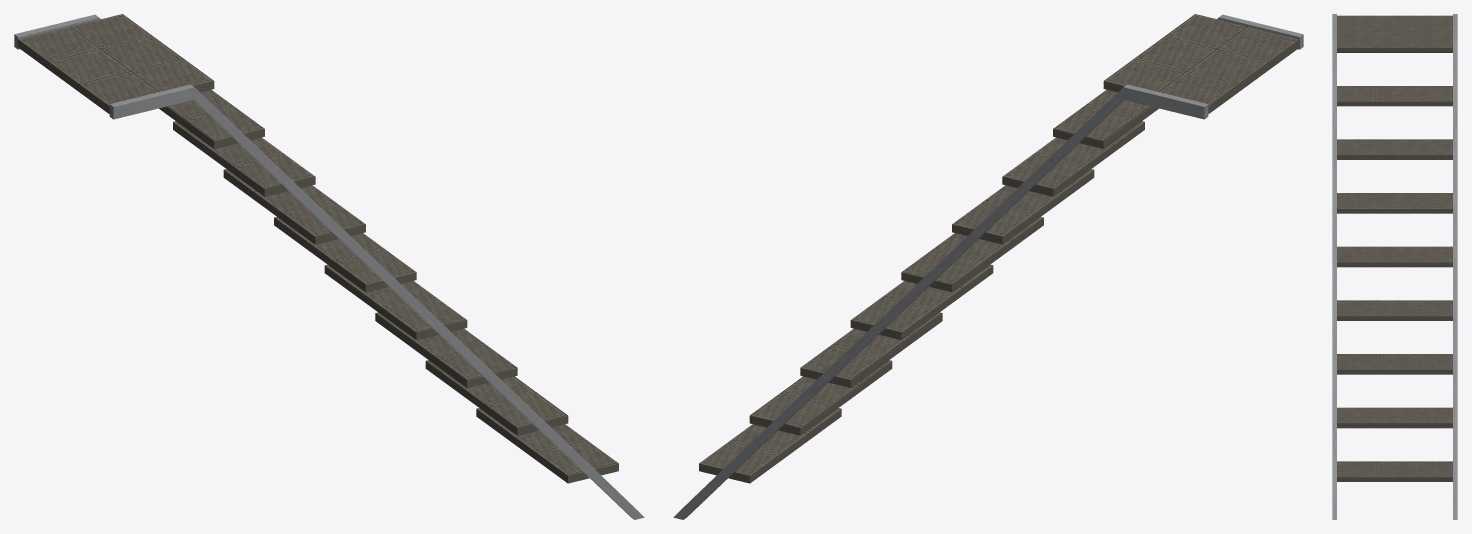
The model's file is Stairs.fbx.
The picture shows the model from 3 angles, left to right: view 1: azimuth 30°, elevation 25°; view 2: azimuth 150°, elevation 25°; view 3: azimuth 270°, elevation 25°; orthographic projection. The views are drawn at different scales.
Visible parts, largest first — view 1: Stairs; view 2: Stairs; view 3: Stairs.
Part boxes in pixels (x1,y1,x2,y2): Stairs: (14, 14, 644, 519); Stairs: (673, 14, 1303, 519); Stairs: (1332, 14, 1457, 519).
Size of the model in its own units: 231 by 225 by 74.79.
